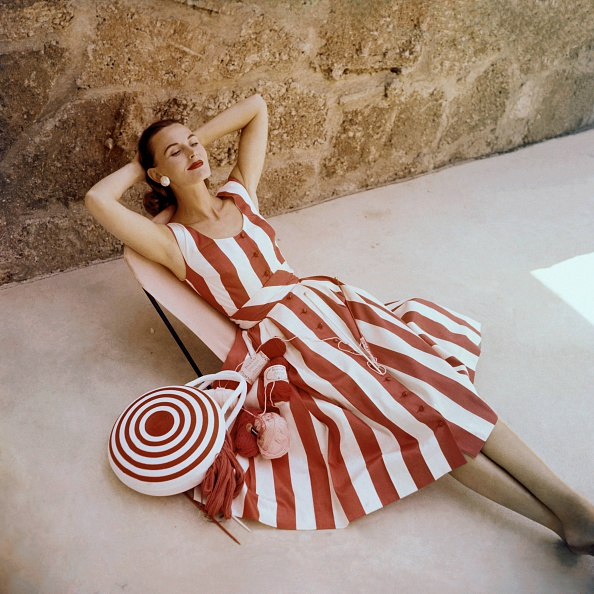deitado: (77, 72, 403, 540)
